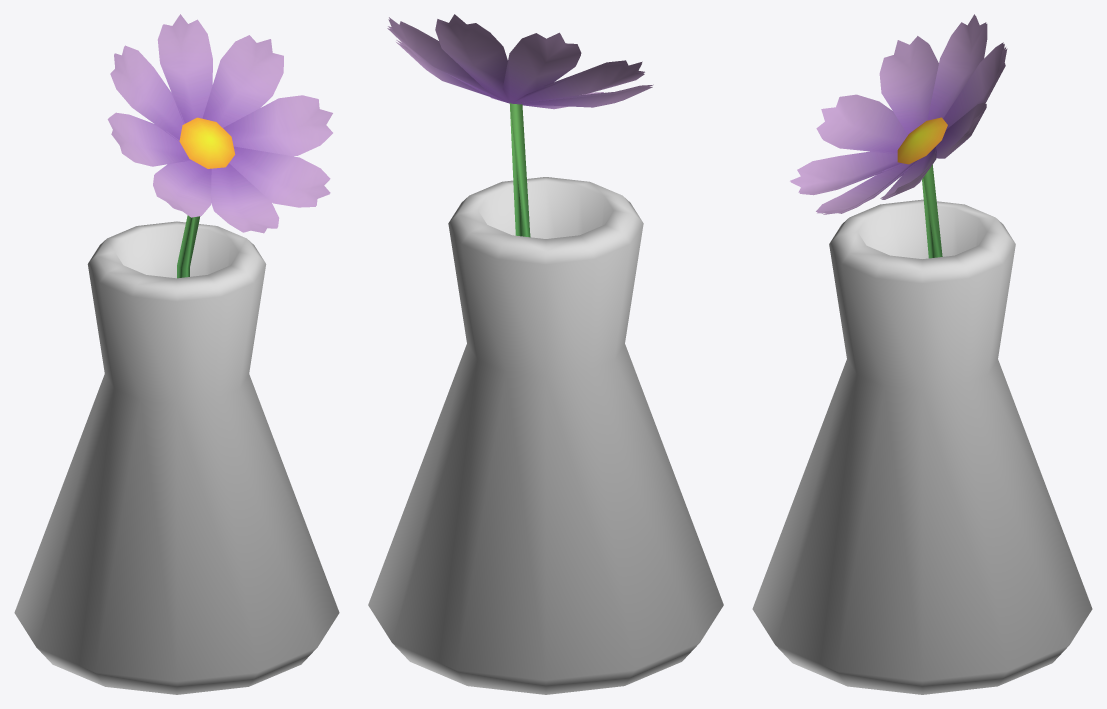
File: Florist_Vase_Cosmos_01.fbx
The picture shows the model from 3 angles, left to right: view 1: azimuth 30°, elevation 25°; view 2: azimuth 150°, elevation 25°; view 3: azimuth 270°, elevation 25°; orthographic projection. The views are drawn at different scales.
Visible parts, largest first — view 1: Vase_01; view 2: Vase_01; view 3: Vase_01.
Part boxes in pixels (x1,y1,x2,y2): Vase_01: (14, 14, 339, 694); Vase_01: (368, 14, 723, 694); Vase_01: (752, 14, 1092, 694).
Bounding box in the file's own units: 42.68 × 82.95 × 42.13.
